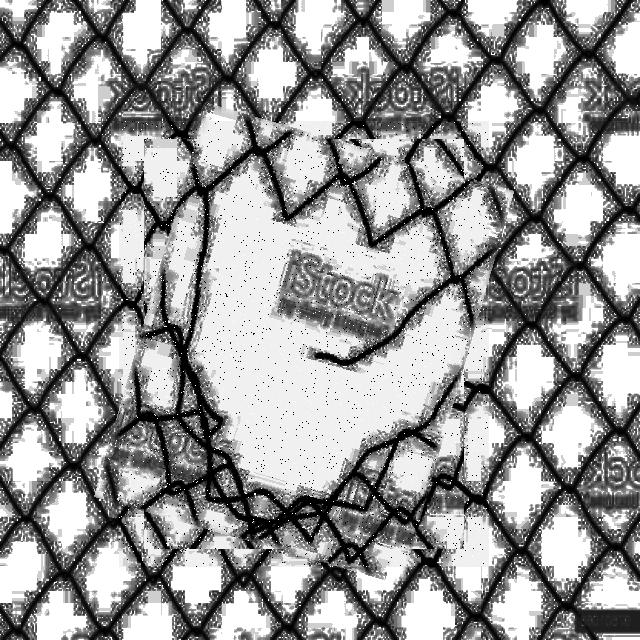anomaly-fence: (119, 121, 489, 567)
